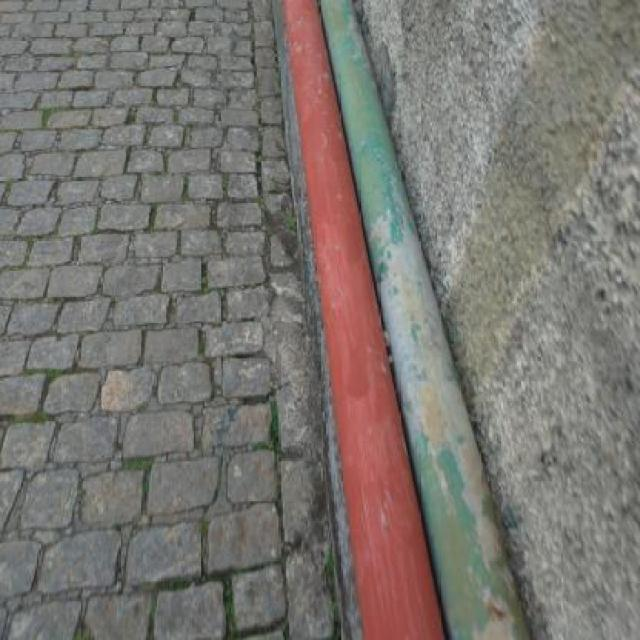gas: (322, 3, 530, 639), (285, 0, 446, 639)
